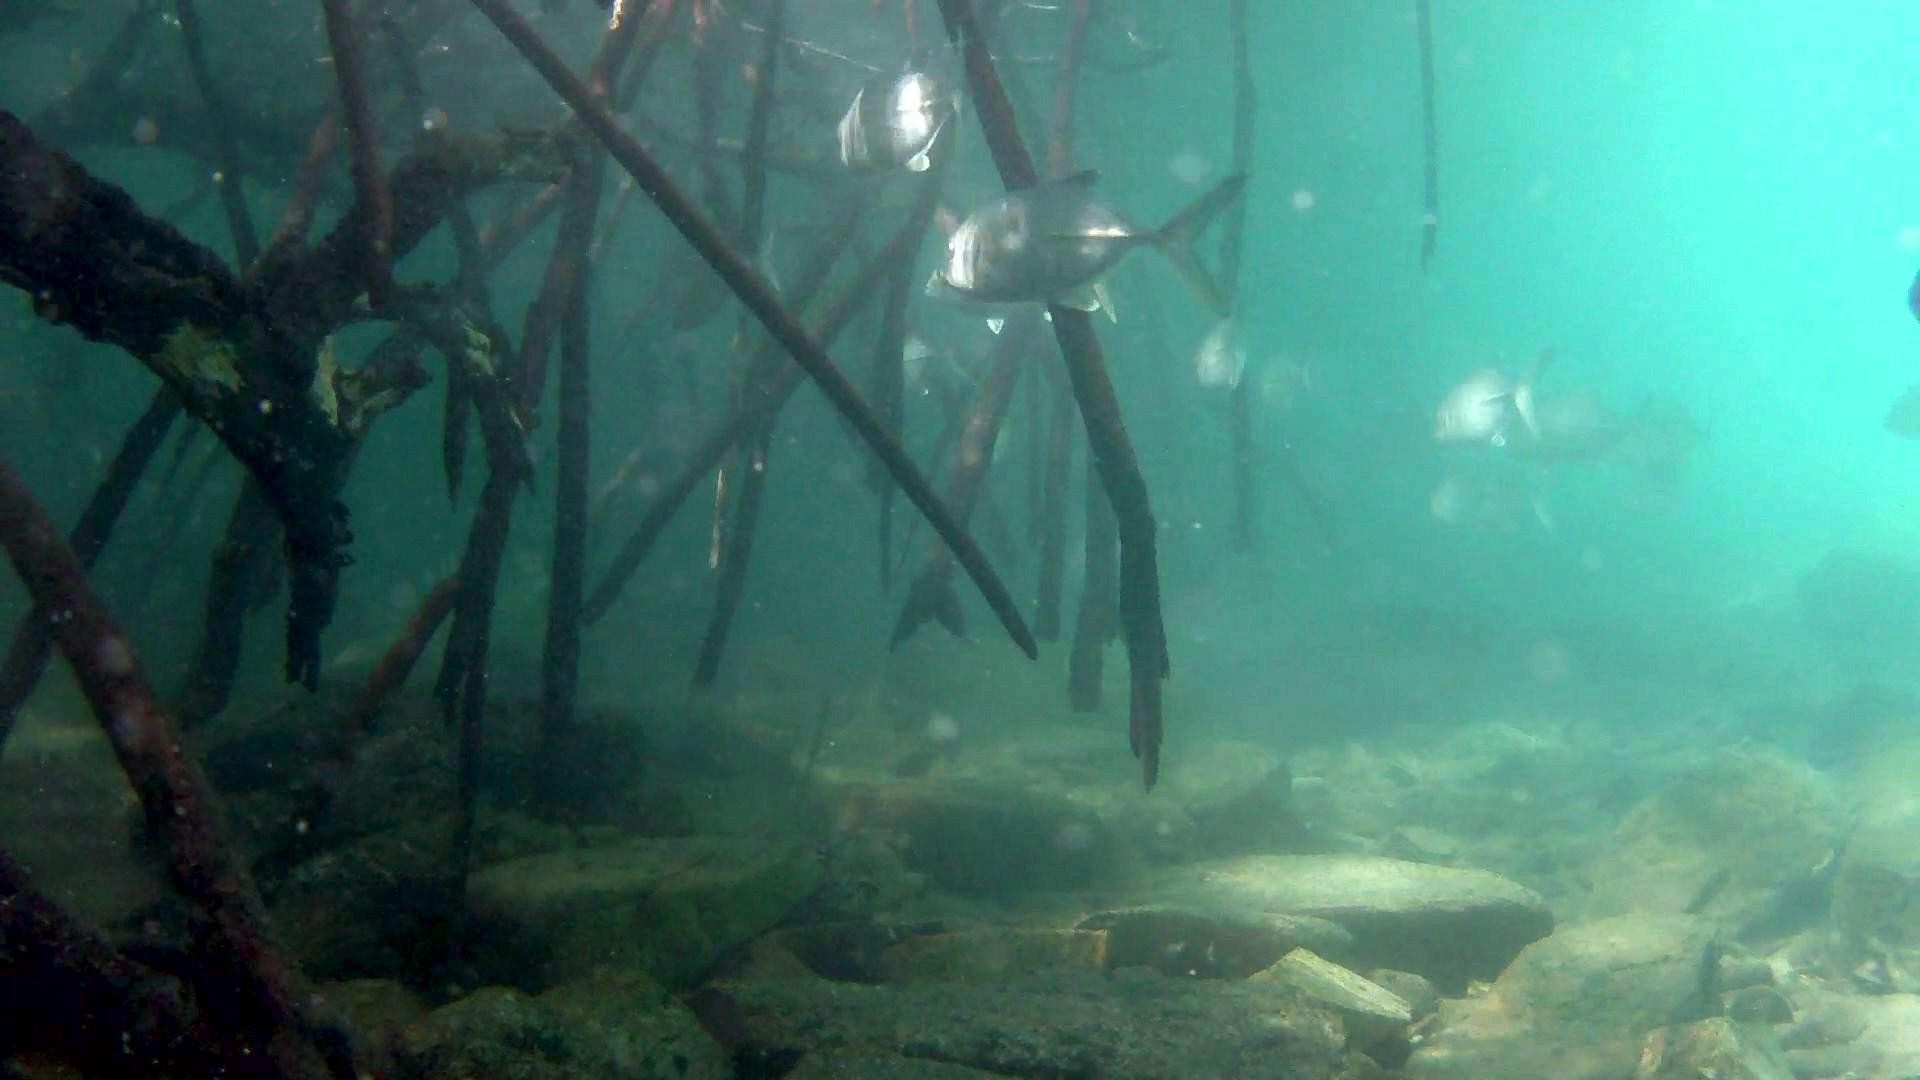caranx: (911, 156, 1265, 324)
